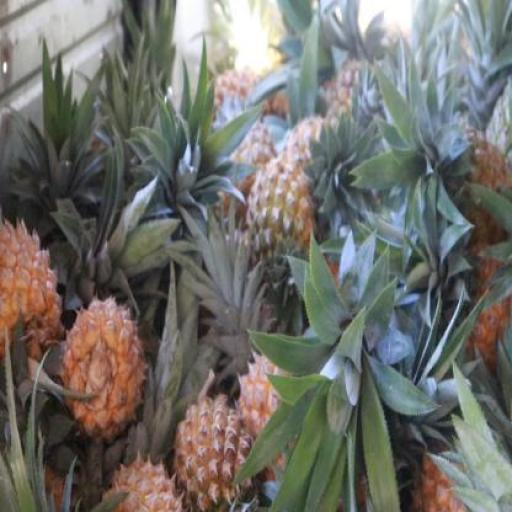Pineapple - v8 v1: (62, 298, 142, 432), (0, 220, 64, 370), (174, 399, 252, 512)
